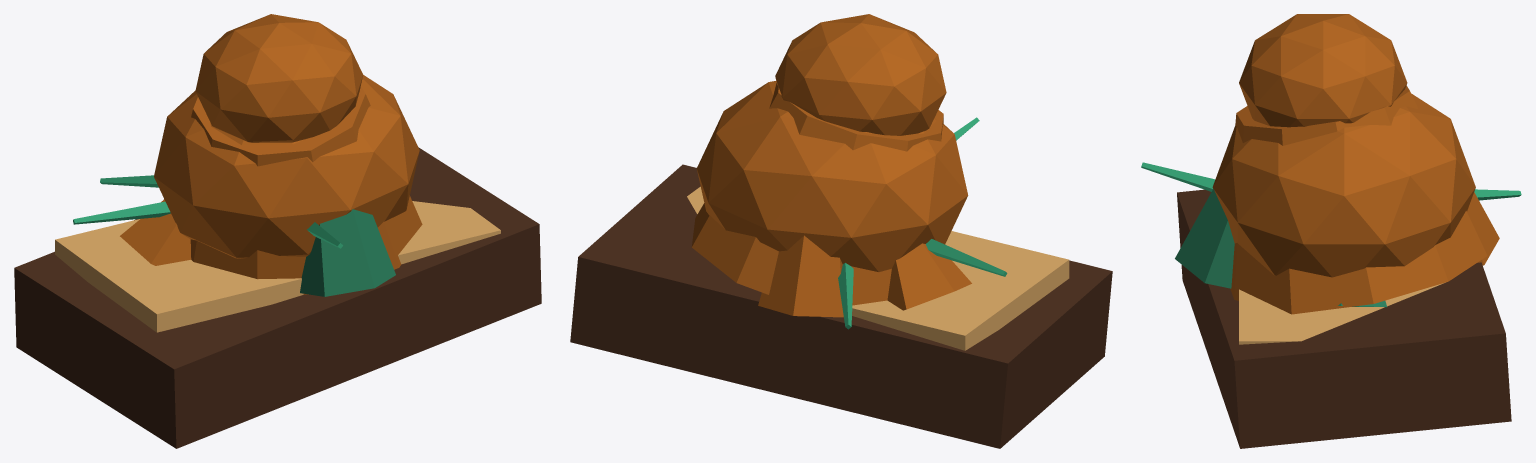
File: pickup_resin.glb
3 views of the same model, side by side, from view 1: azimuth 30°, elevation 25°; view 2: azimuth 150°, elevation 25°; view 3: azimuth 270°, elevation 25° (orthographic). The views are drawn at different scales.
Visible parts, largest first — view 1: Resin_Bark, Resin_Bead_Belly, Resin_Bead_Cap, Resin_Bark_Cut, Resin_Bead, Resin_Run_4, Resin_Run_3, Resin_Needle_2, Resin_Needle_1; view 2: Resin_Bark, Resin_Bead_Belly, Resin_Bead_Cap, Resin_Bark_Cut, Resin_Bead, Resin_Run_2, Resin_Run_3, Resin_Needle_2, Resin_Needle_1; view 3: Resin_Bark, Resin_Bead_Belly, Resin_Bead_Cap, Resin_Bead, Resin_Bark_Cut, Resin_Run_4, Resin_Run_2, Resin_Needle_3, Resin_Needle_1.
Boxes of the visible parts, x1,y1,x2,y2 form: Resin_Bark: [14, 147, 541, 448]; Resin_Bead_Belly: [154, 75, 419, 258]; Resin_Bead_Cap: [195, 14, 363, 142]; Resin_Bark_Cut: [55, 201, 500, 332]; Resin_Bead: [190, 86, 422, 294]; Resin_Run_4: [300, 209, 395, 296]; Resin_Run_3: [120, 199, 191, 265]; Resin_Needle_2: [73, 201, 170, 224]; Resin_Needle_1: [100, 175, 158, 187]; Resin_Bark: [570, 164, 1112, 448]; Resin_Bead_Belly: [696, 81, 968, 271]; Resin_Bead_Cap: [775, 14, 946, 135]; Resin_Bark_Cut: [687, 186, 1069, 350]; Resin_Bead: [691, 83, 943, 305]; Resin_Run_2: [758, 235, 843, 317]; Resin_Run_3: [887, 243, 971, 310]; Resin_Needle_2: [926, 239, 1007, 276]; Resin_Needle_1: [838, 263, 853, 329]; Resin_Bark: [1177, 189, 1511, 448]; Resin_Bead_Belly: [1212, 93, 1475, 277]; Resin_Bead_Cap: [1239, 14, 1407, 127]; Resin_Bead: [1230, 85, 1487, 314]; Resin_Bark_Cut: [1239, 282, 1445, 344]; Resin_Run_4: [1175, 189, 1234, 288]; Resin_Run_2: [1467, 192, 1499, 265]; Resin_Needle_3: [1141, 162, 1215, 191]; Resin_Needle_1: [1474, 189, 1521, 200].
Bounding box in the file's own units: 0.13 × 0.0974 × 0.097.
